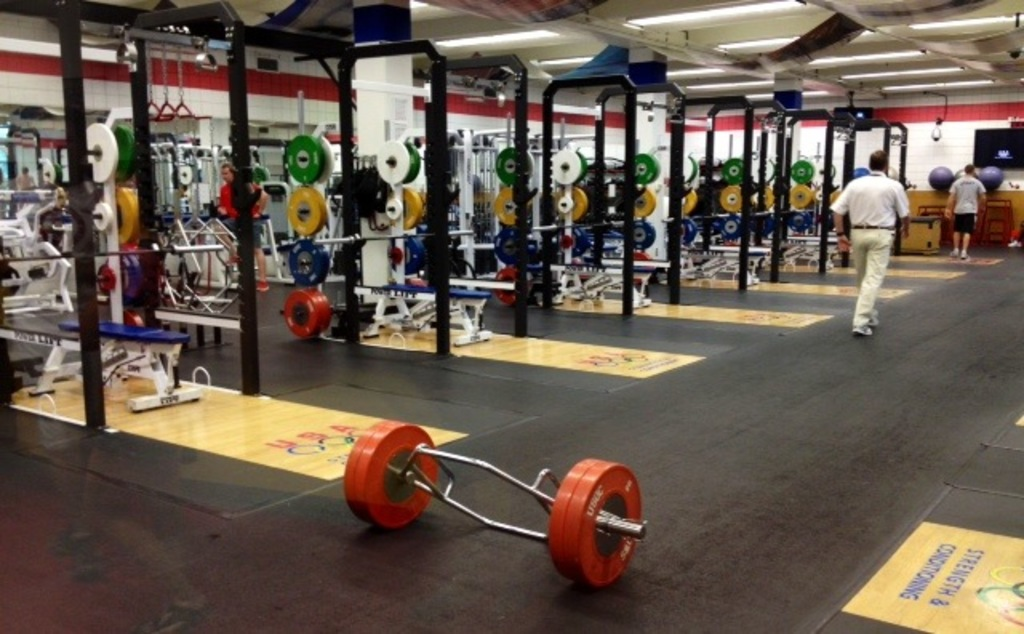Person: (828, 149, 909, 335), (213, 164, 267, 291), (943, 163, 986, 259)
